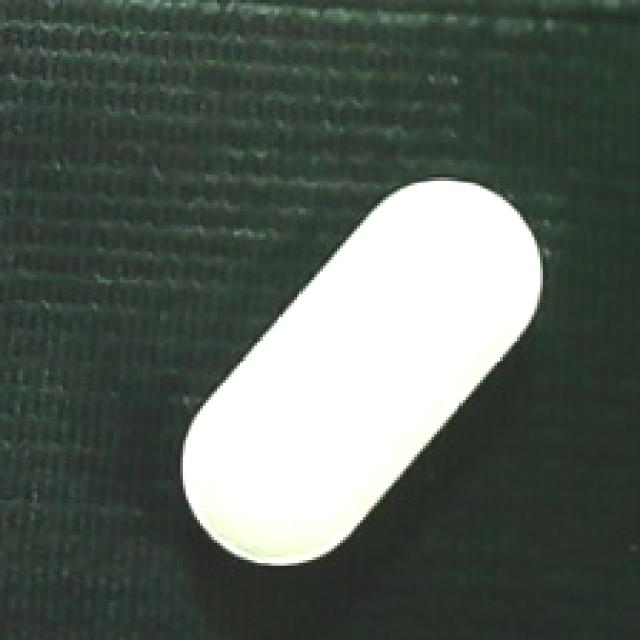no-defect: (180, 175, 546, 570)
